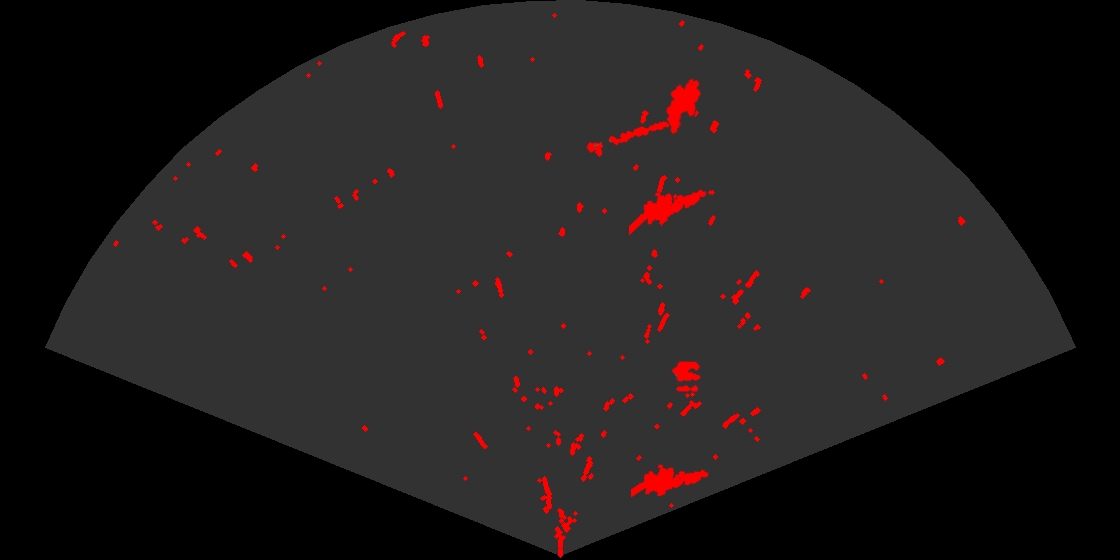AUV: (664, 77, 703, 136)
ball: (671, 360, 702, 393)
chain: (585, 119, 683, 154)
frogman: (629, 188, 708, 237), (631, 463, 710, 499)
